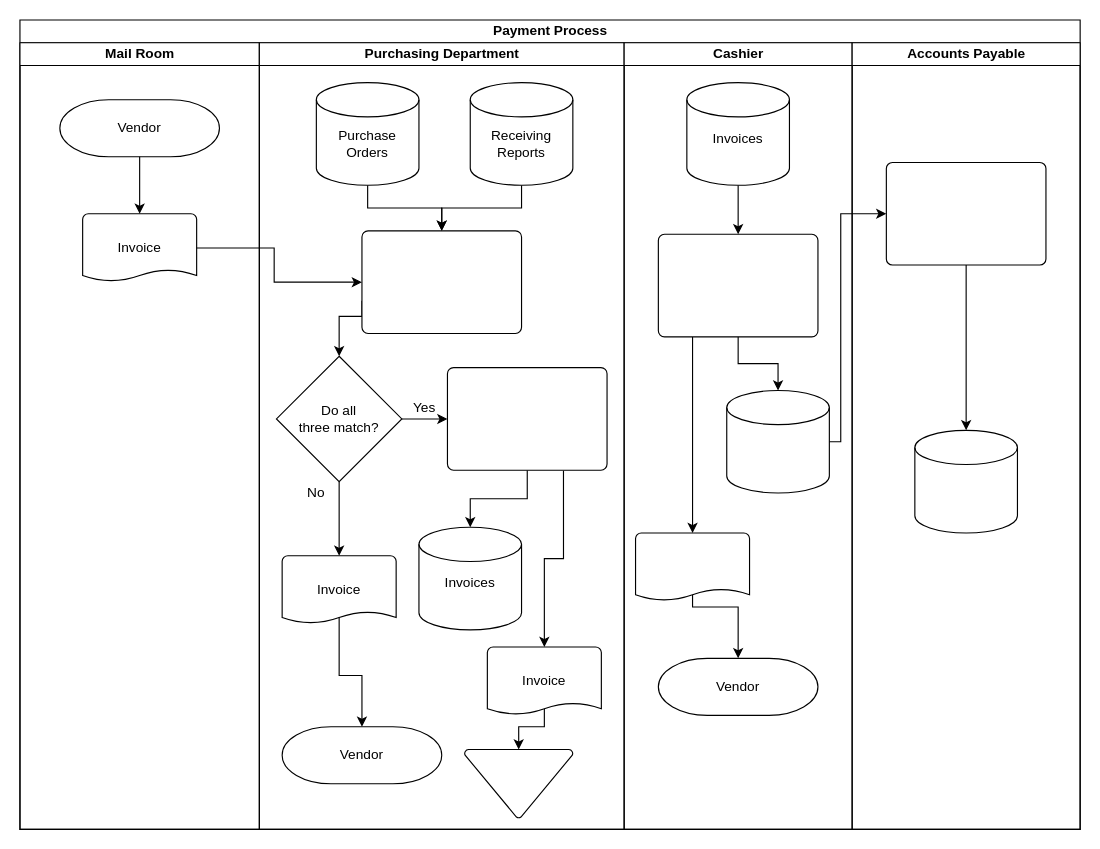
This 1100x849 diagram has some shape labels left out. The shapes that lost their labels are listed below. From the top down, each one's centre as x and y in pixels, then its label:
the point at 965,213: Post Cash Payments Journal transaction to A/P Subledger on a daily basis.
the point at 441,281: Compare invoice with purchase order and receiving report
the point at 737,285: Prepare check and update cash payments journal
the point at 526,418: Add invoice to database, file invoice, and notify Cashier.
the point at 777,441: Cash Payments Journal
the point at 965,481: A/P Subledger
the point at 692,566: Check
the point at 518,783: File
